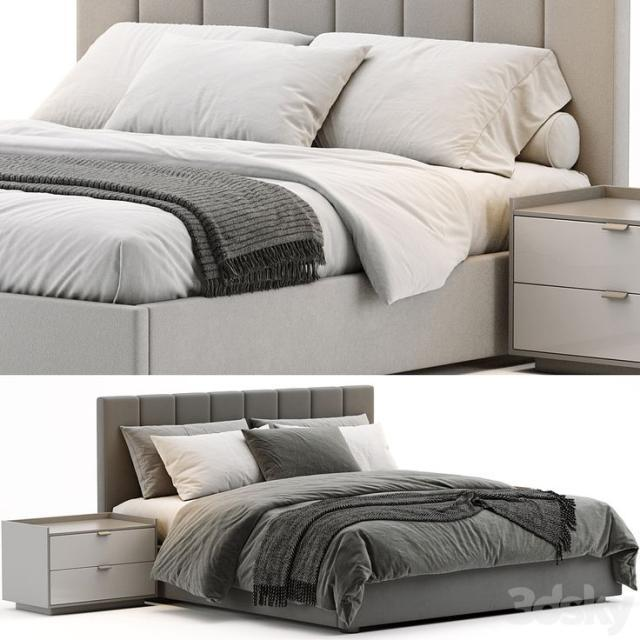obstacle: (0, 19, 592, 374), (96, 384, 638, 633), (507, 184, 639, 373), (5, 514, 157, 610)
